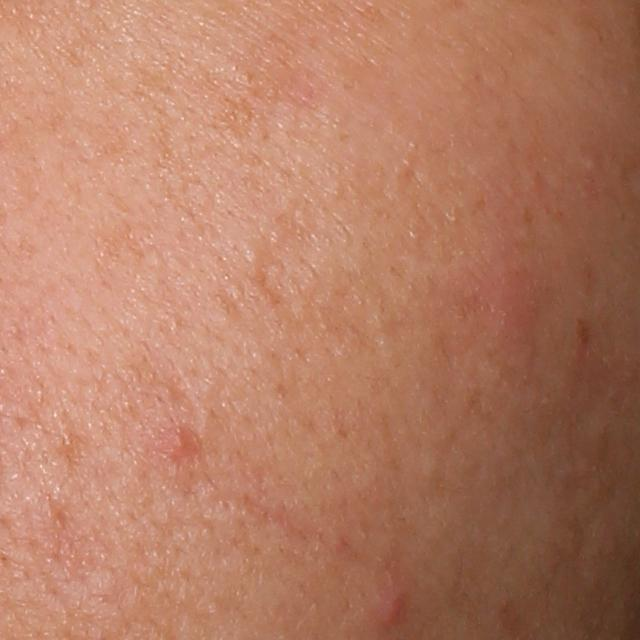comedo: (240, 243, 262, 263)
papule: (464, 255, 551, 389), (369, 584, 413, 636), (154, 421, 199, 465)
